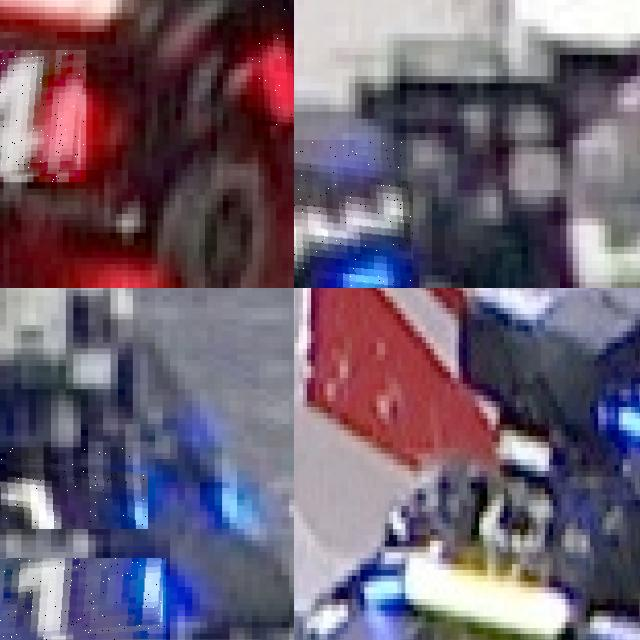B1: (0, 557, 166, 640), (0, 447, 147, 528)
B3: (294, 140, 413, 288)
R4: (0, 50, 86, 182), (252, 0, 294, 126)
